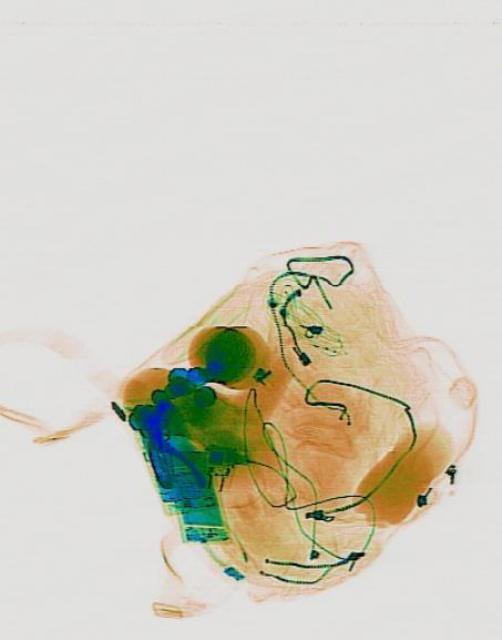Pliers: (129, 406, 205, 508)
